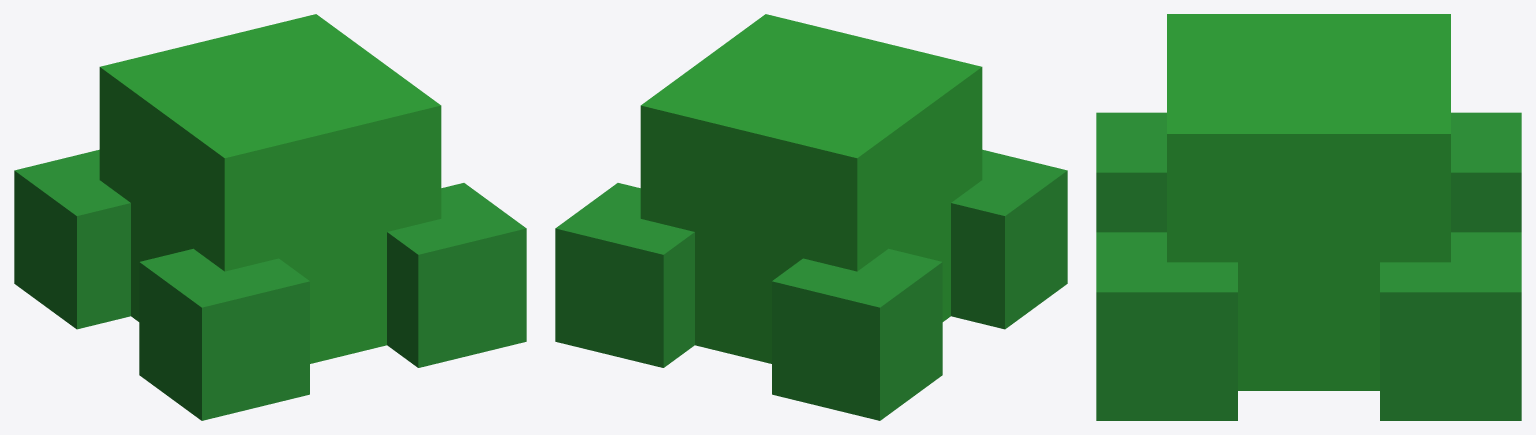
The model's file is Bush-2.obj.
The picture shows the model from 3 angles, left to right: view 1: azimuth 30°, elevation 25°; view 2: azimuth 150°, elevation 25°; view 3: azimuth 270°, elevation 25°; orthographic projection. The views are drawn at different scales.
Parts seen in each view (by area): view 1: Bush-2; view 2: Bush-2; view 3: Bush-2.
Part boxes in pixels (x1,y1,x2,y2): Bush-2: (14, 14, 526, 420); Bush-2: (555, 14, 1067, 420); Bush-2: (1096, 14, 1521, 420).
Bounding box in the file's own units: 6 × 4 × 6.
Materials: 1 (1 with a texture image).
